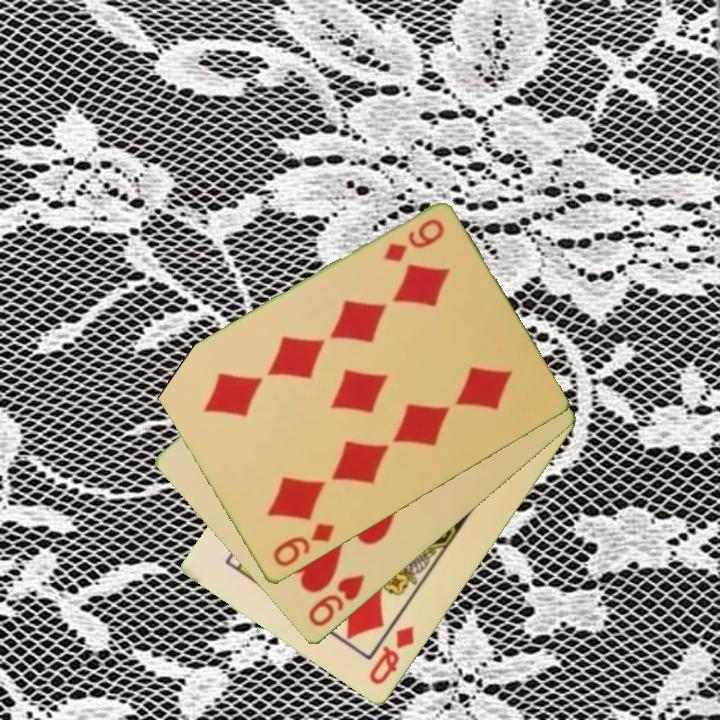9d: (269, 520, 338, 571), (379, 215, 447, 266)
9h: (304, 571, 368, 631)
Qd: (365, 623, 418, 689)
